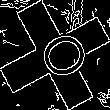O_SW: (22, 24, 88, 86)
